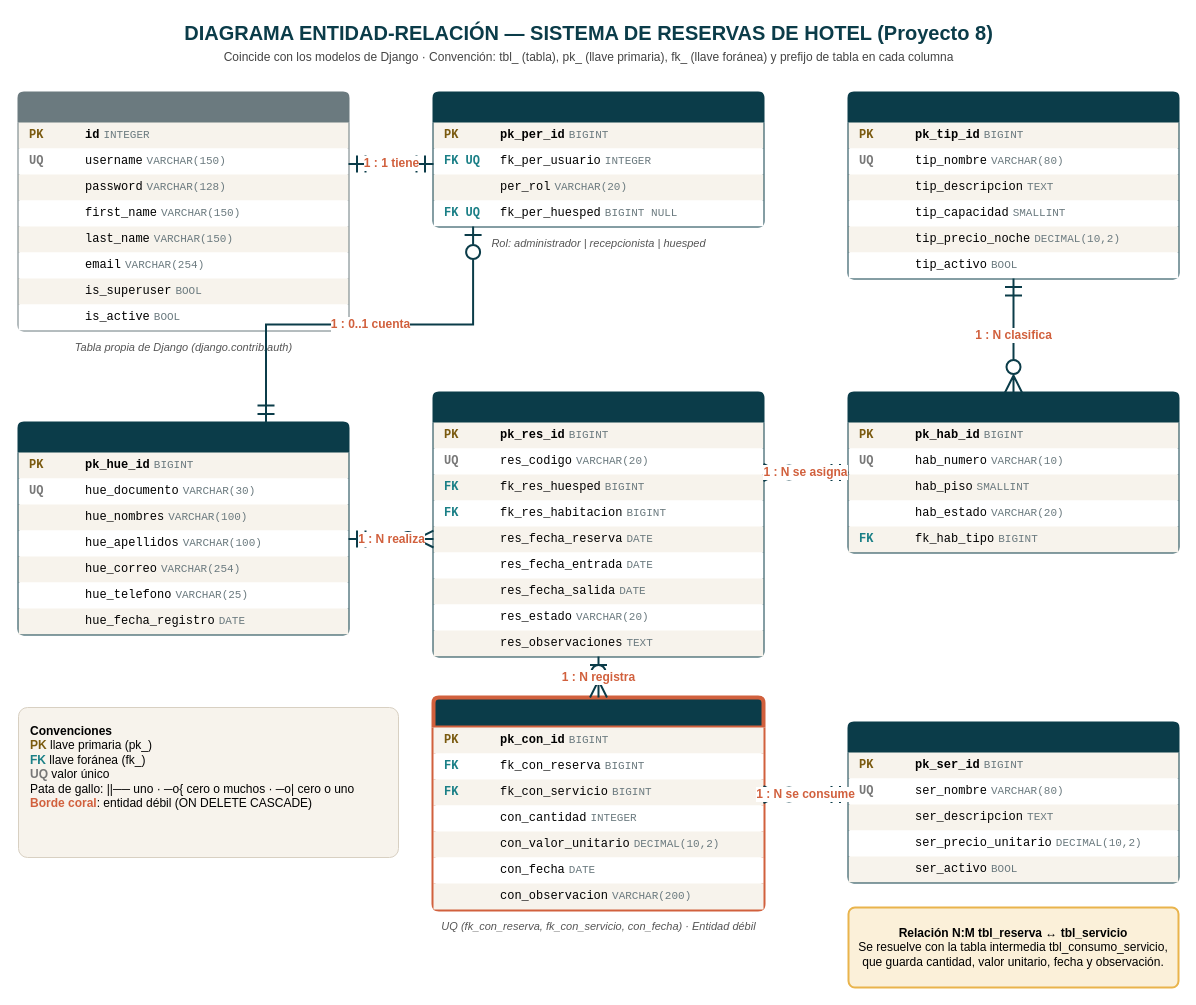
The diagram is 1196 pixels wide and 1005 high, and some of its shapes have lost their labels. Here are the shapes that lost their labels. From the top down, the box of each, then its label:
(432, 91, 764, 227): tbl_perfil
(847, 91, 1179, 279): tbl_tipo_habitacion
(17, 91, 349, 331): auth_user
(847, 391, 1179, 553): tbl_habitacion
(17, 421, 349, 635): tbl_huesped
(432, 391, 764, 657): tbl_reserva
(431, 695, 765, 911): tbl_consumo_servicio
(847, 721, 1179, 883): tbl_servicio
